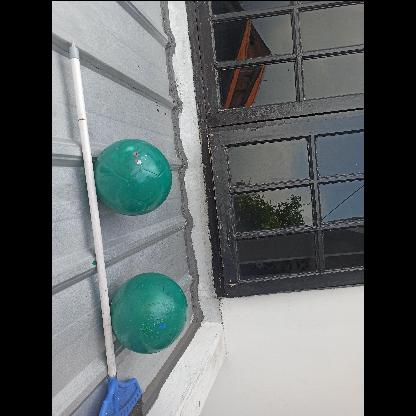green_ball: (110, 270, 192, 354), (95, 136, 174, 216)
